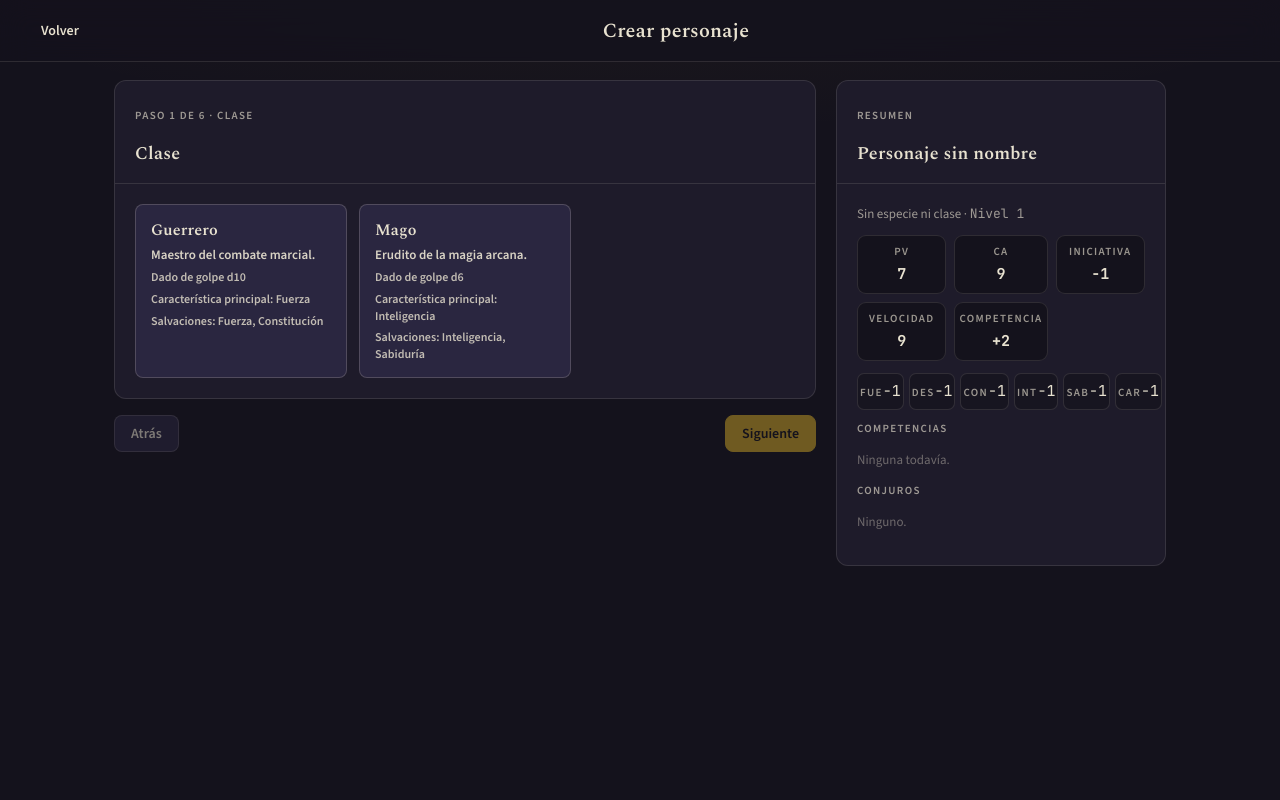
it: CrearPersonajeScreen wizard › shows a Conjuros step for a caster class
Click the button "Mago" at (465, 291), box [359, 204, 571, 378]
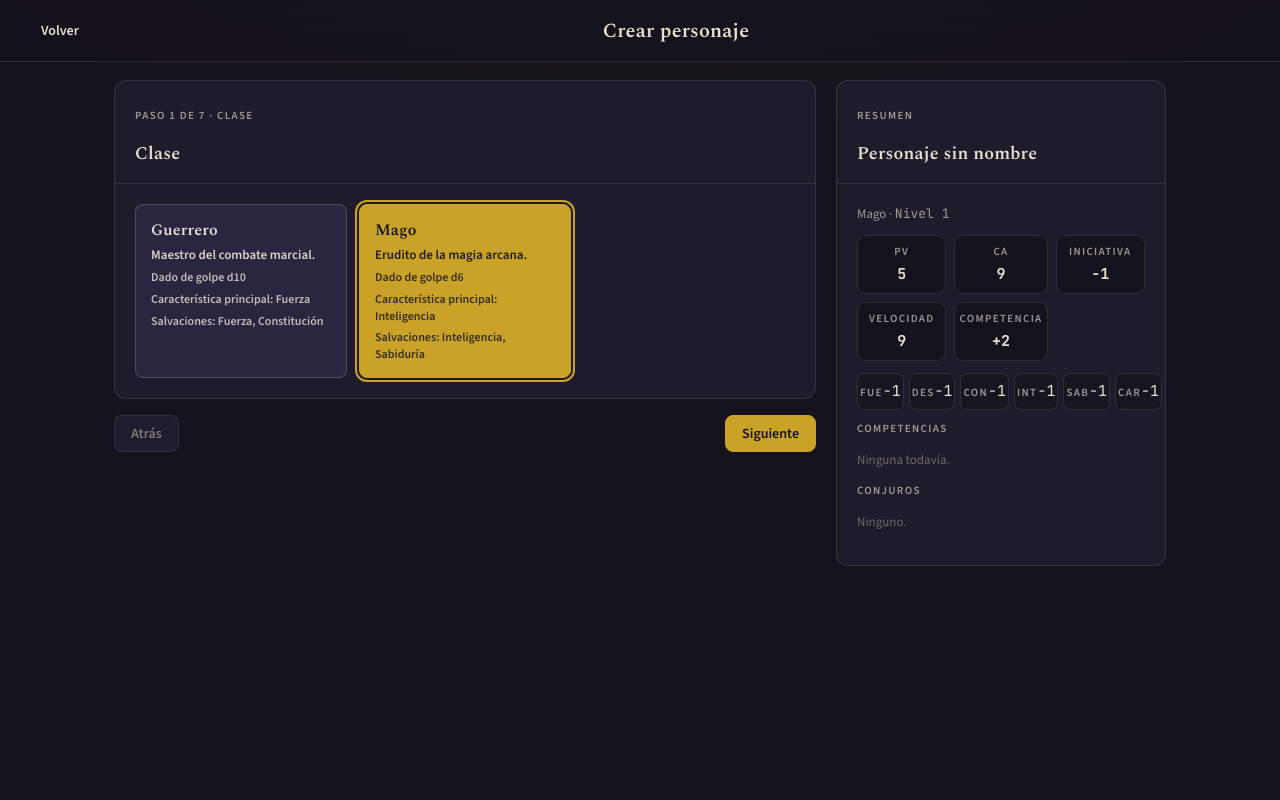
Now the text "Paso 1 de 7 · Clase" is shown, box [135, 108, 254, 124]
